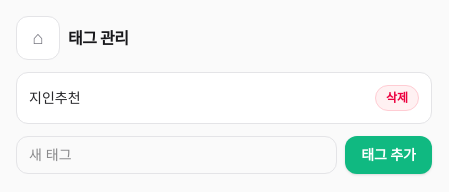
Test: TagManagementScreen › deletes a tag and removes it from the visible list
expect the button "지인추천" is shown: met, box [29,88,367,108]
Click the button with aria-label "지인추천 삭제": (397, 98) [375,85,419,111]
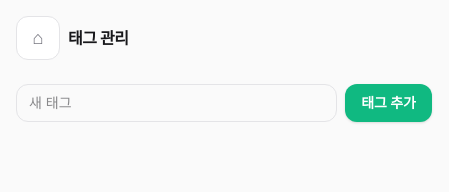
expect the button "지인추천" is gone: met
